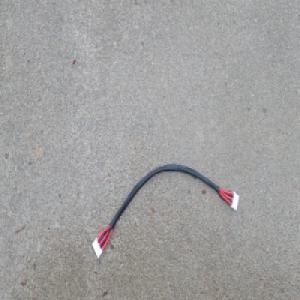Wire: (91, 163, 240, 260)
